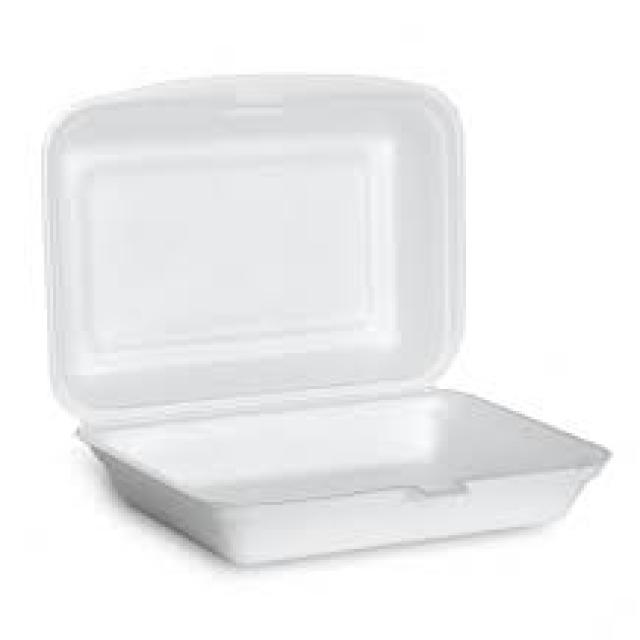styrofoam: (49, 76, 608, 563)
